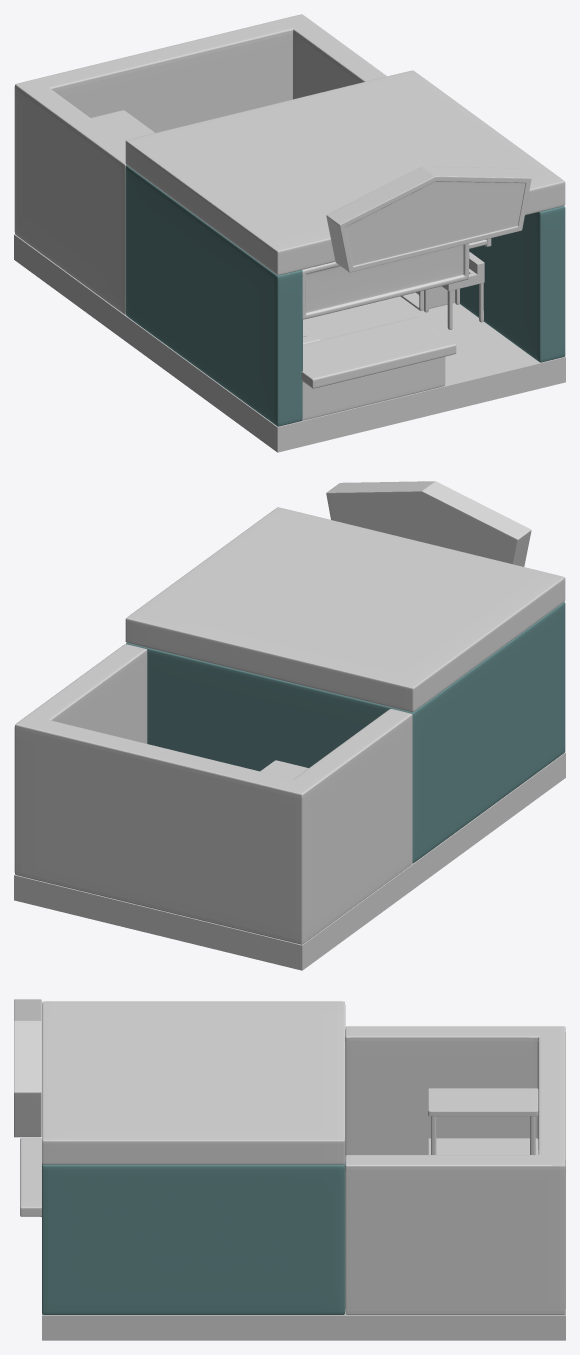
The model's file is Hawker 3.fbx.
The picture shows the model from 3 angles, top to bottom: view 1: azimuth 30°, elevation 25°; view 2: azimuth 150°, elevation 25°; view 3: azimuth 270°, elevation 25°; orthographic projection.
Visible parts, largest first — view 1: Roof.001, Cube.101, Walls, Cube.106, Cube.081, Cube.002, Cube.083, Cube.109, Cube.011, Cube.006, Cube.089; view 2: Cube.101, Roof.001, Walls, Cube.106, Cube.081; view 3: Cube.101, Roof.001, Walls, Cube.106, Cube.081, Cube.109, Cube.002, Cube.108, Cube.110.
Boxes of the visible parts, <box> form: Roof.001: <box>125,70,565,275</box>; Cube.101: <box>14,14,386,314</box>; Walls: <box>125,165,565,426</box>; Cube.106: <box>14,234,565,452</box>; Cube.081: <box>326,166,531,272</box>; Cube.002: <box>301,317,456,420</box>; Cube.083: <box>302,243,469,319</box>; Cube.109: <box>91,110,154,143</box>; Cube.011: <box>400,286,454,310</box>; Cube.006: <box>442,251,484,291</box>; Cube.089: <box>424,283,483,329</box>; Cube.101: <box>14,644,412,944</box>; Roof.001: <box>125,507,565,711</box>; Walls: <box>126,602,565,863</box>; Cube.106: <box>14,752,565,970</box>; Cube.081: <box>326,481,531,566</box>; Cube.101: <box>345,1026,565,1314</box>; Roof.001: <box>42,1001,345,1164</box>; Walls: <box>42,1161,345,1314</box>; Cube.106: <box>42,1309,565,1340</box>; Cube.081: <box>14,999,41,1137</box>; Cube.109: <box>428,1088,538,1116</box>; Cube.002: <box>20,1138,41,1216</box>; Cube.108: <box>428,1138,538,1154</box>; Cube.110: <box>431,1116,535,1154</box>.
Size of the model in its own units: 1200 by 999 by 2001.
